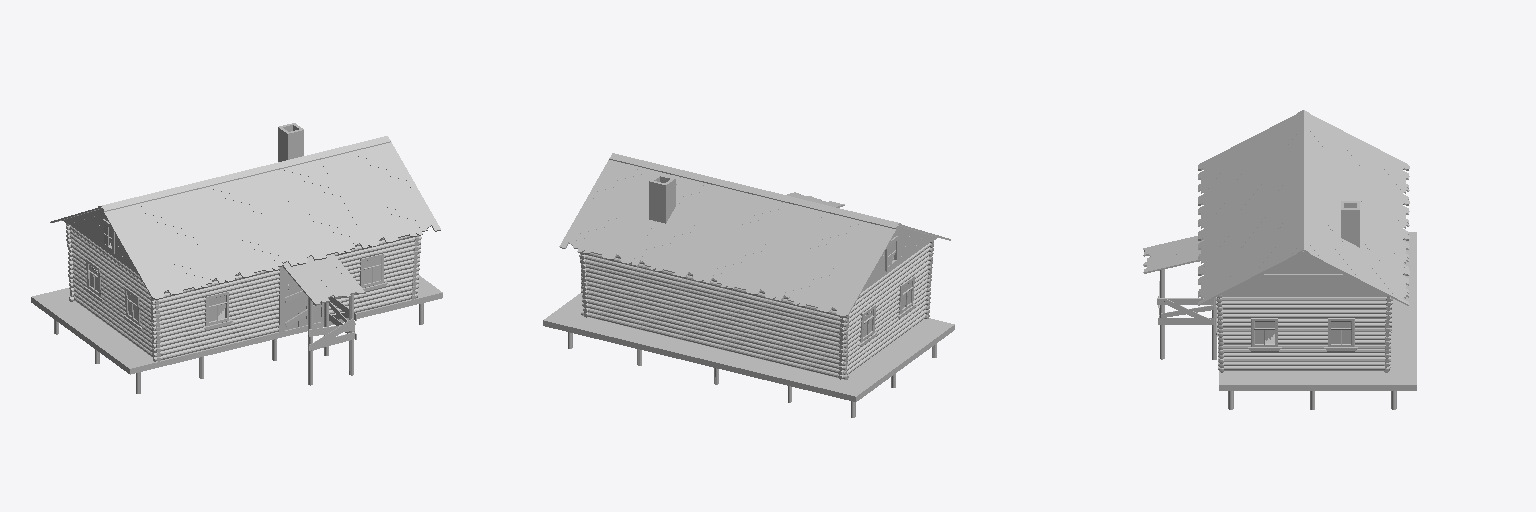
File: House_OBJ.obj
The picture shows the model from 3 angles: view 1: azimuth 30°, elevation 25°; view 2: azimuth 150°, elevation 25°; view 3: azimuth 270°, elevation 25°; orthographic projection.
Size of the model in its own units: 145 by 75.1 by 110.